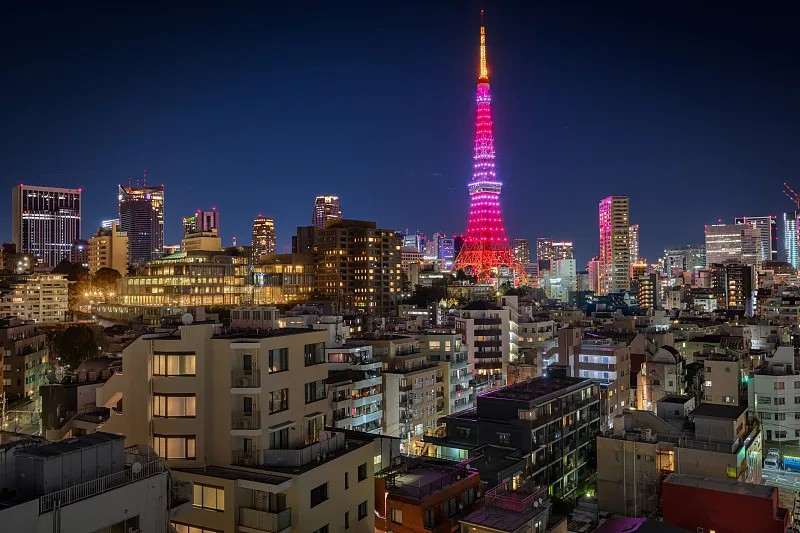Tokyo: (448, 6, 528, 286)
